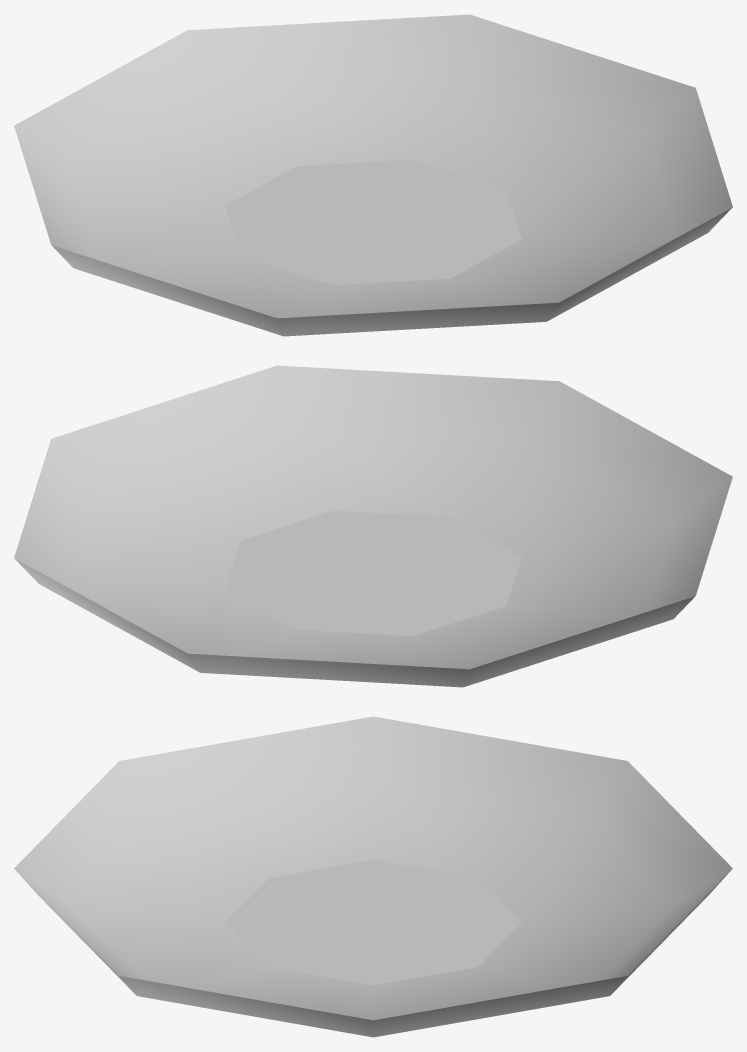
Rendered from Plate_A.FBX.
3 renders of one model, top to bottom at view 1: azimuth 30°, elevation 25°; view 2: azimuth 150°, elevation 25°; view 3: azimuth 270°, elevation 25°, orthographic. The views are drawn at different scales.
Parts seen in each view (by area): view 1: Bowl; view 2: Bowl; view 3: Bowl.
Boxes of the visible parts, <box> form: Bowl: <box>14,14,732,336</box>; Bowl: <box>14,365,732,687</box>; Bowl: <box>14,716,732,1037</box>.
Bounding box in the file's own units: 70.43 × 6.32 × 70.43.
